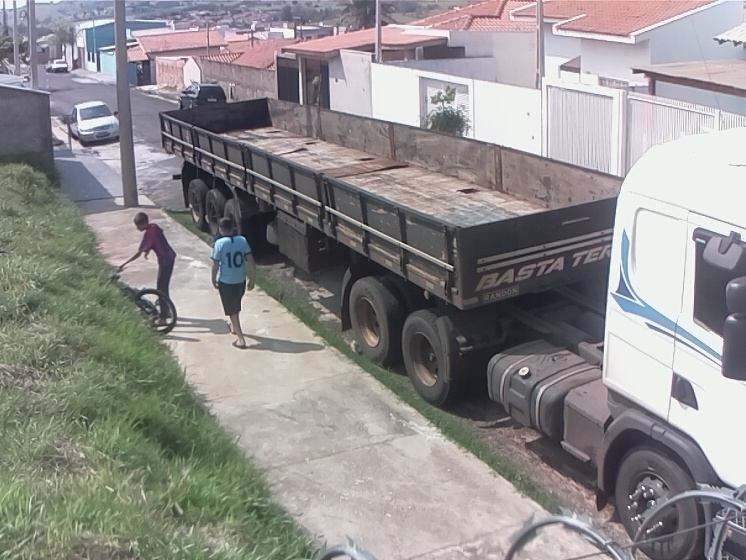person: (111, 209, 182, 330), (206, 217, 258, 352)
